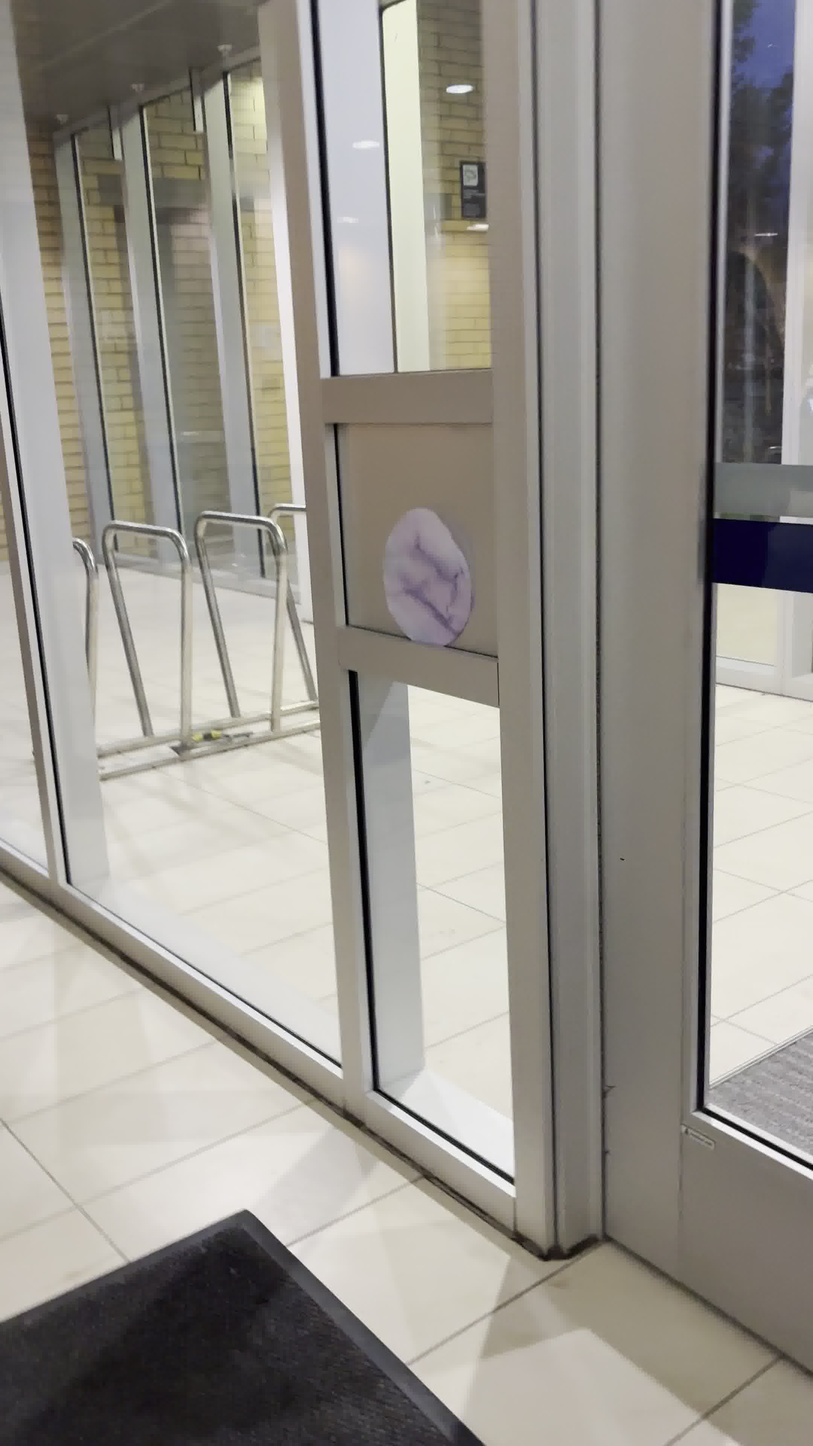Target: (376, 504, 477, 647)
